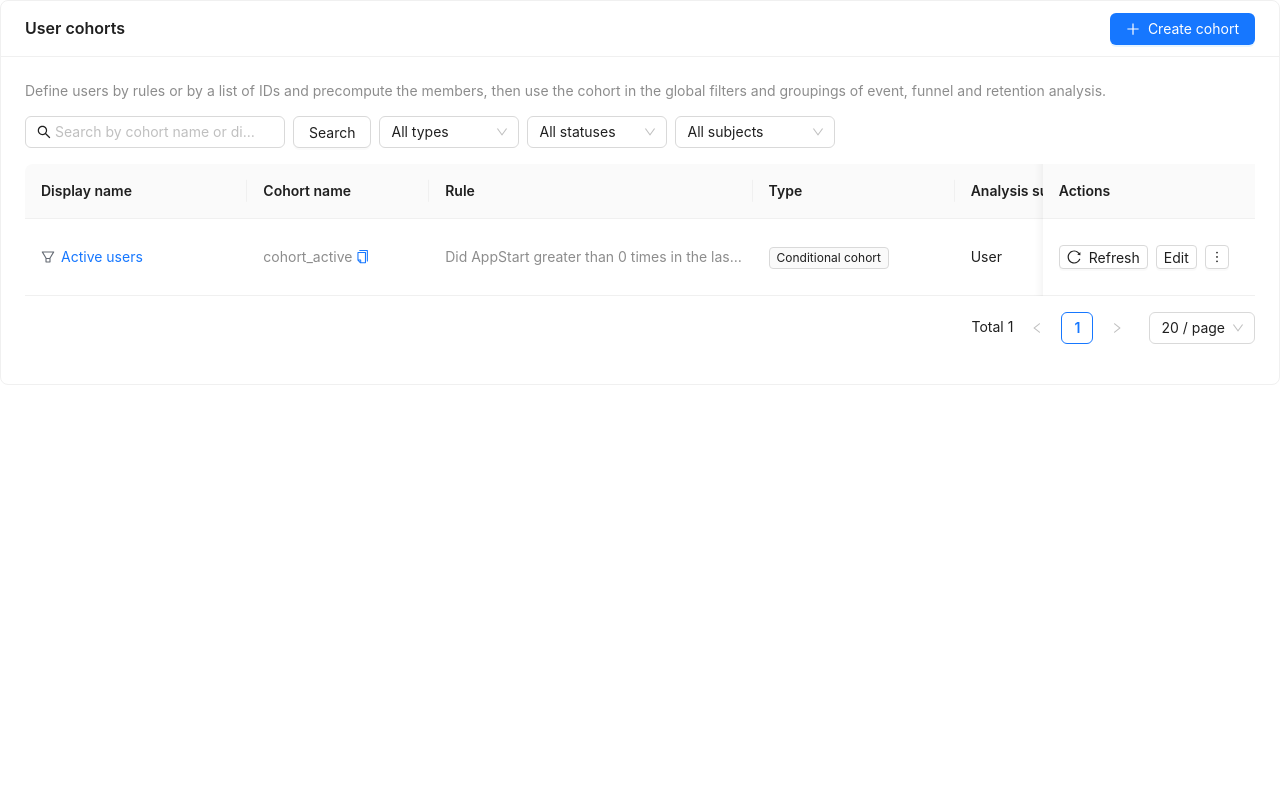
it: en-US rendering · user cohorts › renders the cohort list, rule summary and type cards fully in English
Expected: the text "User cohorts" is shown, [25, 18, 125, 38]
Expected: the column heading "Rule" is shown, [429, 164, 753, 219]
// 创建类型卡：同一页面上再点开一次，省一次整页渲染（页面级用例在满载时开销大）
Click the button "Create cohort": (1182, 28) [1110, 12, 1255, 44]
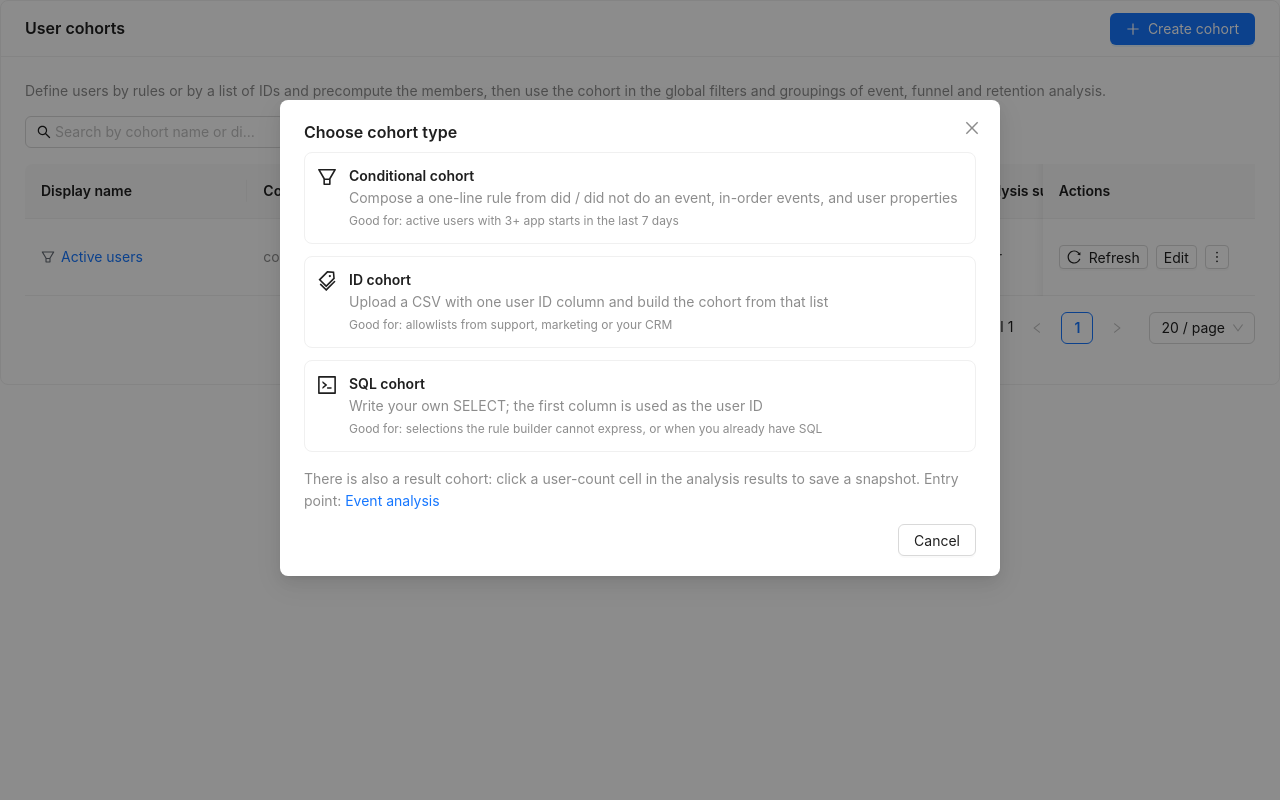
Expected: the text "Compose a one-line rule" is shown, [349, 189, 958, 206]
Expected: the text "Upload a CSV with one user ID column" is shown, [349, 293, 828, 310]
